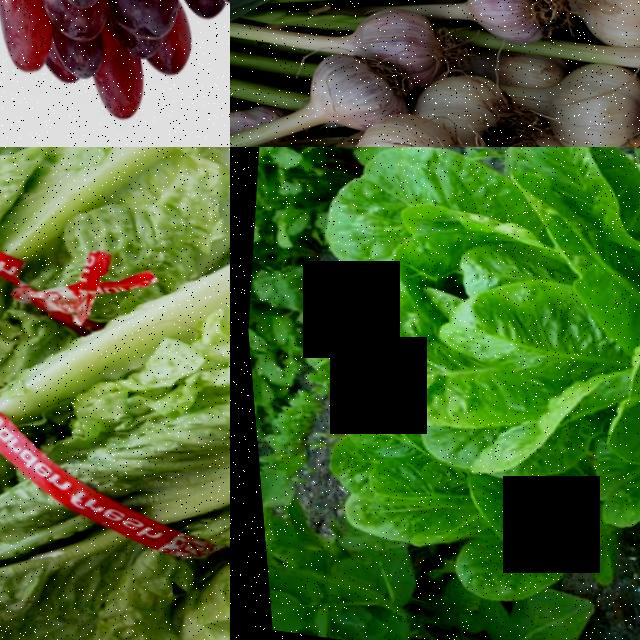garlic: (535, 56, 640, 147), (337, 0, 443, 76), (298, 53, 395, 132), (340, 107, 468, 147), (453, 0, 555, 45)
grapes: (0, 0, 230, 147)
lettuce: (287, 147, 640, 503), (299, 419, 598, 597)
